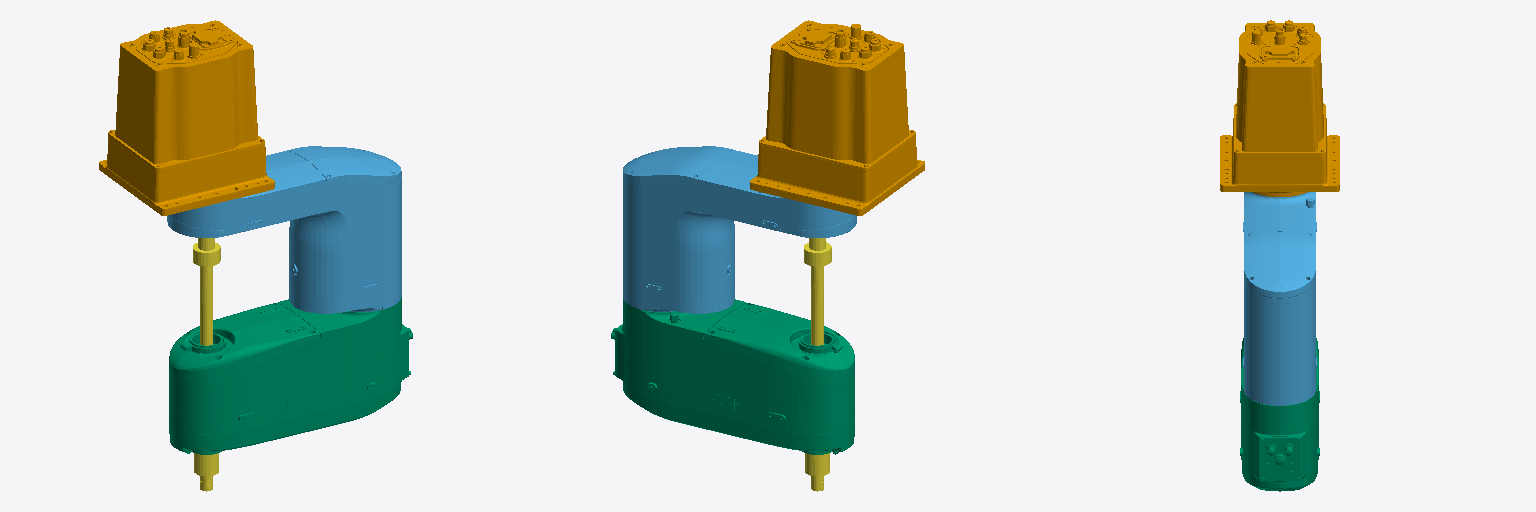
URDF robot description (IRB):
<?xml version="1.0" ?>
<robot name="IRB">

<link name="base_link">
  <inertial>
    <origin xyz="-0.03428217335737813 -2.4667588020476706e-07 0.08971070325608167" rpy="0 0 0"/>
    <mass value="47.926347738289834"/>
    <inertia ixx="0.305149" iyy="0.354553" izz="0.217137" ixy="-4e-06" iyz="9.8e-05" ixz="0.004008"/>
  </inertial>
  <visual>
    <origin xyz="0 0 0" rpy="0 0 0"/>
    <geometry>
      <mesh filename="package://IRB_description/meshes/base_link.stl" scale="0.001 0.001 0.001"/>
    </geometry>
    <material name="silver"/>
  </visual>
  <collision>
    <origin xyz="0 0 0" rpy="0 0 0"/>
    <geometry>
      <mesh filename="package://IRB_description/meshes/base_link.stl" scale="0.001 0.001 0.001"/>
    </geometry>
  </collision>
</link>

<link name="Link1_C550_IP54CR_1">
  <inertial>
    <origin xyz="0.19001834496263106 1.2971798160160128e-05 -0.11021715675959742" rpy="0 0 0"/>
    <mass value="47.35022106297793"/>
    <inertia ixx="0.302918" iyy="0.718755" izz="0.514821" ixy="7.2e-05" iyz="-4.1e-05" ixz="0.191541"/>
  </inertial>
  <visual>
    <origin xyz="-0.0 -4e-06 0.0225" rpy="0 0 0"/>
    <geometry>
      <mesh filename="package://IRB_description/meshes/Link1_C550_IP54CR_1.stl" scale="0.001 0.001 0.001"/>
    </geometry>
    <material name="silver"/>
  </visual>
  <collision>
    <origin xyz="-0.0 -4e-06 0.0225" rpy="0 0 0"/>
    <geometry>
      <mesh filename="package://IRB_description/meshes/Link1_C550_IP54CR_1.stl" scale="0.001 0.001 0.001"/>
    </geometry>
  </collision>
</link>

<link name="Link2_C550_IP54CR_1">
  <inertial>
    <origin xyz="-0.1301713720166507 4.3805985255709795e-06 -0.09290145322121324" rpy="0 0 0"/>
    <mass value="60.90584870029004"/>
    <inertia ixx="0.222627" iyy="0.806335" izz="0.734879" ixy="-2.5e-05" iyz="-5e-05" ixz="-0.033018"/>
  </inertial>
  <visual>
    <origin xyz="-0.275 -4e-06 0.281" rpy="0 0 0"/>
    <geometry>
      <mesh filename="package://IRB_description/meshes/Link2_C550_IP54CR_1.stl" scale="0.001 0.001 0.001"/>
    </geometry>
    <material name="silver"/>
  </visual>
  <collision>
    <origin xyz="-0.275 -4e-06 0.281" rpy="0 0 0"/>
    <geometry>
      <mesh filename="package://IRB_description/meshes/Link2_C550_IP54CR_1.stl" scale="0.001 0.001 0.001"/>
    </geometry>
  </collision>
</link>

<link name="Link4_C550_IP54CR_1">
  <inertial>
    <origin xyz="2.314787645762635e-06 3.455104944045238e-06 -0.16788068593611935" rpy="0 0 0"/>
    <mass value="1.2507936056644426"/>
    <inertia ixx="0.030362" iyy="0.030362" izz="0.000213" ixy="-0.0" iyz="1e-06" ixz="1e-06"/>
  </inertial>
  <visual>
    <origin xyz="0.0 0.0 0.158" rpy="0 0 0"/>
    <geometry>
      <mesh filename="package://IRB_description/meshes/Link4_C550_IP54CR_1.stl" scale="0.001 0.001 0.001"/>
    </geometry>
    <material name="silver"/>
  </visual>
  <collision>
    <origin xyz="0.0 0.0 0.158" rpy="0 0 0"/>
    <geometry>
      <mesh filename="package://IRB_description/meshes/Link4_C550_IP54CR_1.stl" scale="0.001 0.001 0.001"/>
    </geometry>
  </collision>
</link>

<joint name="j1" type="continuous">
  <origin xyz="0.0 4e-06 -0.0225" rpy="0 0 0"/>
  <parent link="base_link"/>
  <child link="Link1_C550_IP54CR_1"/>
  <axis xyz="0.0 0.0 -1.0"/>
</joint>

<joint name="j2" type="continuous">
  <origin xyz="0.275 0.0 -0.2585" rpy="0 0 0"/>
  <parent link="Link1_C550_IP54CR_1"/>
  <child link="Link2_C550_IP54CR_1"/>
  <axis xyz="0.0 0.0 -1.0"/>
</joint>

<joint name="Slider 3" type="prismatic">
  <origin xyz="-0.275 -4e-06 0.123" rpy="0 0 0"/>
  <parent link="Link2_C550_IP54CR_1"/>
  <child link="Link4_C550_IP54CR_1"/>
  <axis xyz="0.0 0.0 1.0"/>
  <limit upper="0.0" lower="-0.1" effort="100" velocity="100"/>
</joint>

</robot>

--- Facts derived from the render (not from the file) ---
Views: 3 orthographic renders of the robot side by side, from view 1: azimuth 30°, elevation 25°; view 2: azimuth 150°, elevation 25°; view 3: azimuth 270°, elevation 25°.
Model IRB with 4 links and 3 joints (2 continuous, 1 prismatic), rooted at base_link, posed all joints at 0.
Visible links, largest first — view 1: Link2_C550_IP54CR_1, base_link, Link1_C550_IP54CR_1, Link4_C550_IP54CR_1; view 2: Link2_C550_IP54CR_1, base_link, Link1_C550_IP54CR_1, Link4_C550_IP54CR_1; view 3: base_link, Link1_C550_IP54CR_1, Link2_C550_IP54CR_1.
Link boxes in pixels (x1,y1,x2,y2): Link2_C550_IP54CR_1: (169, 296, 412, 454); base_link: (99, 20, 274, 215); Link1_C550_IP54CR_1: (167, 146, 401, 313); Link4_C550_IP54CR_1: (193, 238, 220, 491); Link2_C550_IP54CR_1: (611, 299, 854, 454); base_link: (750, 20, 924, 215); Link1_C550_IP54CR_1: (623, 146, 856, 313); Link4_C550_IP54CR_1: (804, 238, 831, 491); base_link: (1220, 20, 1339, 196); Link1_C550_IP54CR_1: (1243, 192, 1316, 405); Link2_C550_IP54CR_1: (1240, 338, 1319, 491).
Bounding box of the posed robot: 0.4895 × 0.2 × 0.7815 m (x, y, z).
Meshes: 4 distinct files referenced, 4 mesh visuals loaded (4 binary STL).